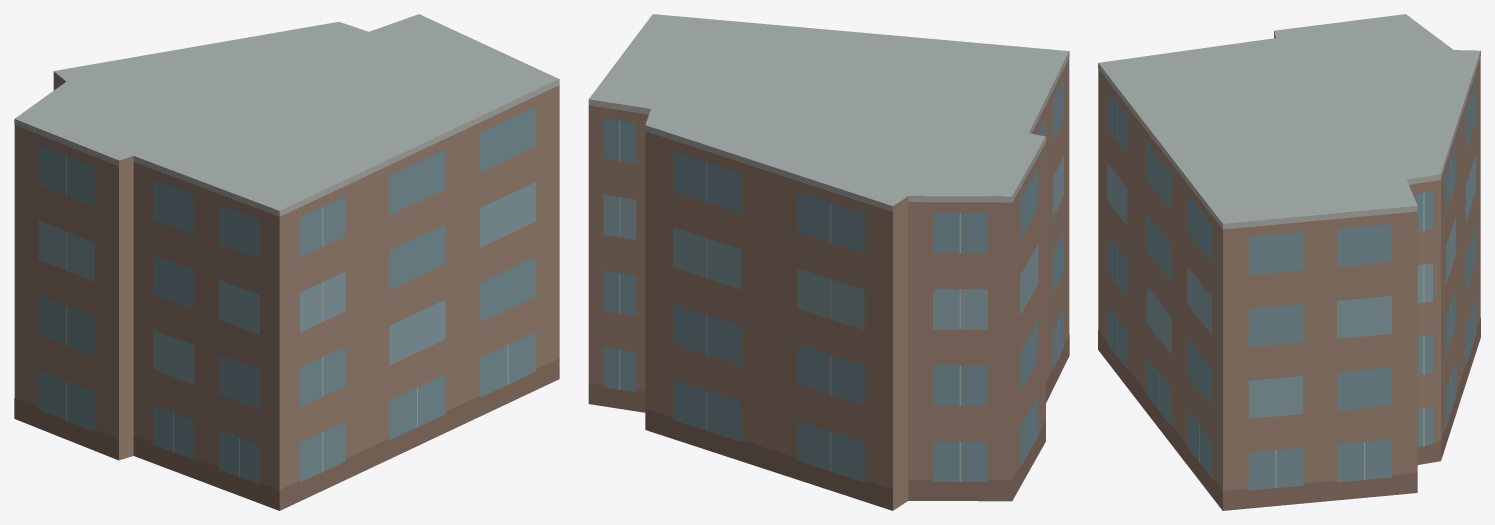
The model's file is survey-upis-32603250.glb.
The picture shows the model from 3 angles, left to right: view 1: azimuth 30°, elevation 25°; view 2: azimuth 150°, elevation 25°; view 3: azimuth 270°, elevation 25°; orthographic projection. The views are drawn at different scales.
Visible parts, largest first — view 1: survey-upis-32603250.tmp; view 2: survey-upis-32603250.tmp; view 3: survey-upis-32603250.tmp.
Part boxes in pixels (x1,y1,x2,y2): survey-upis-32603250.tmp: (14, 14, 559, 510); survey-upis-32603250.tmp: (588, 14, 1069, 510); survey-upis-32603250.tmp: (1098, 14, 1480, 510).
Bounding box in the file's own units: 19.3 × 12.3 × 14.87.
